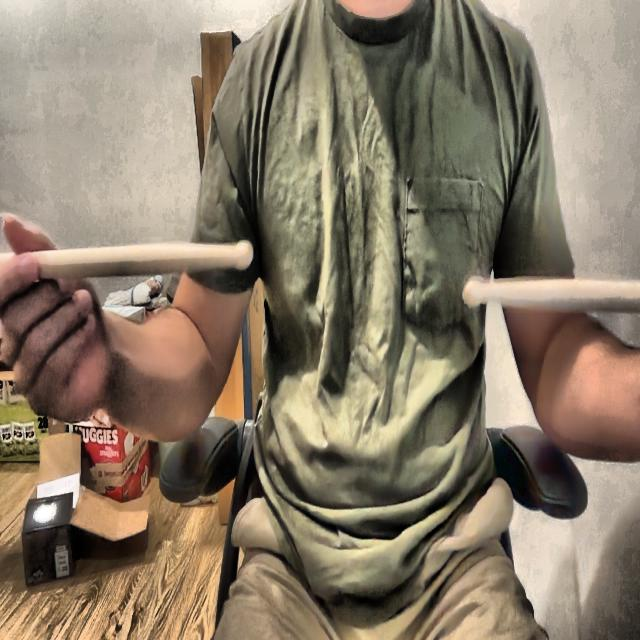Drumstick-Heads: (227, 237, 258, 272), (462, 269, 485, 309)
